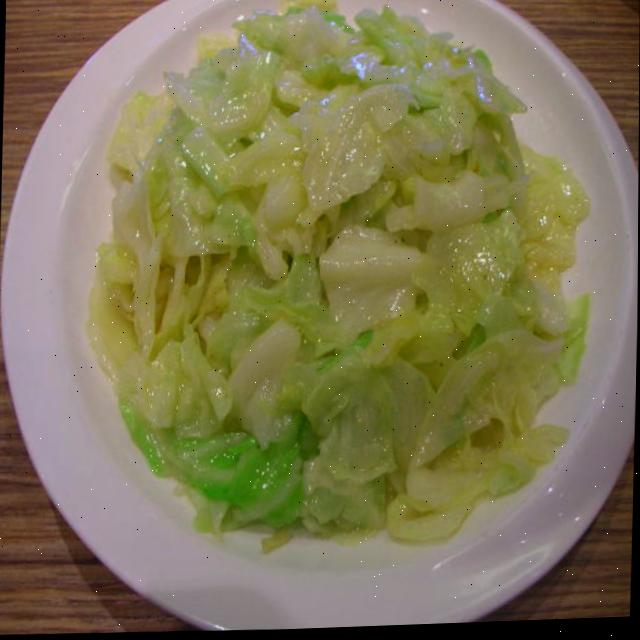蔬菜料理: (55, 0, 637, 584)
